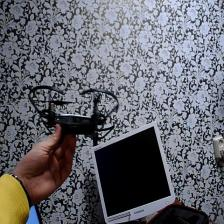drone: (25, 74, 120, 152)
